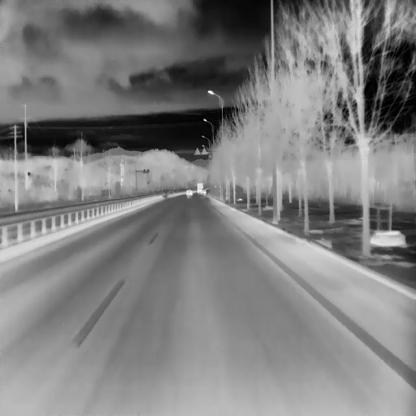car: (197, 182, 204, 194), (186, 188, 193, 195), (201, 188, 206, 194)
